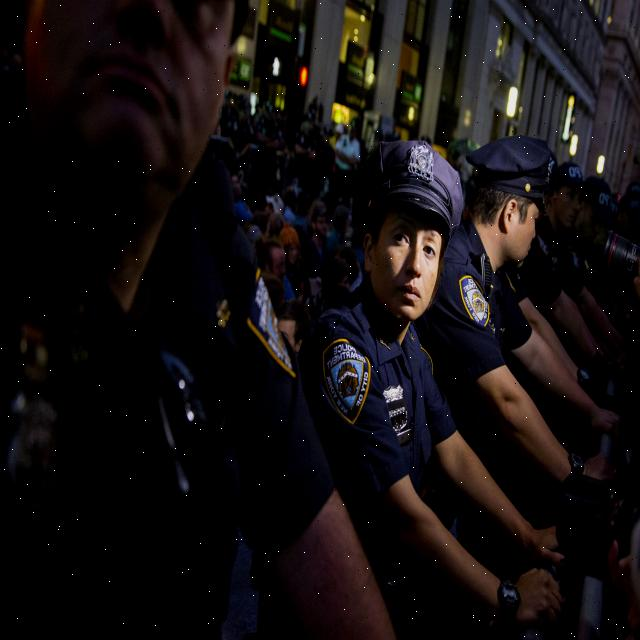police: (321, 139, 574, 633), (432, 134, 618, 504)
